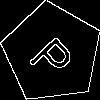P: (27, 28, 83, 84)
